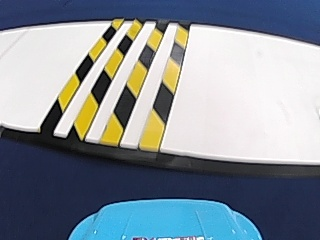bump: (38, 24, 195, 146)
